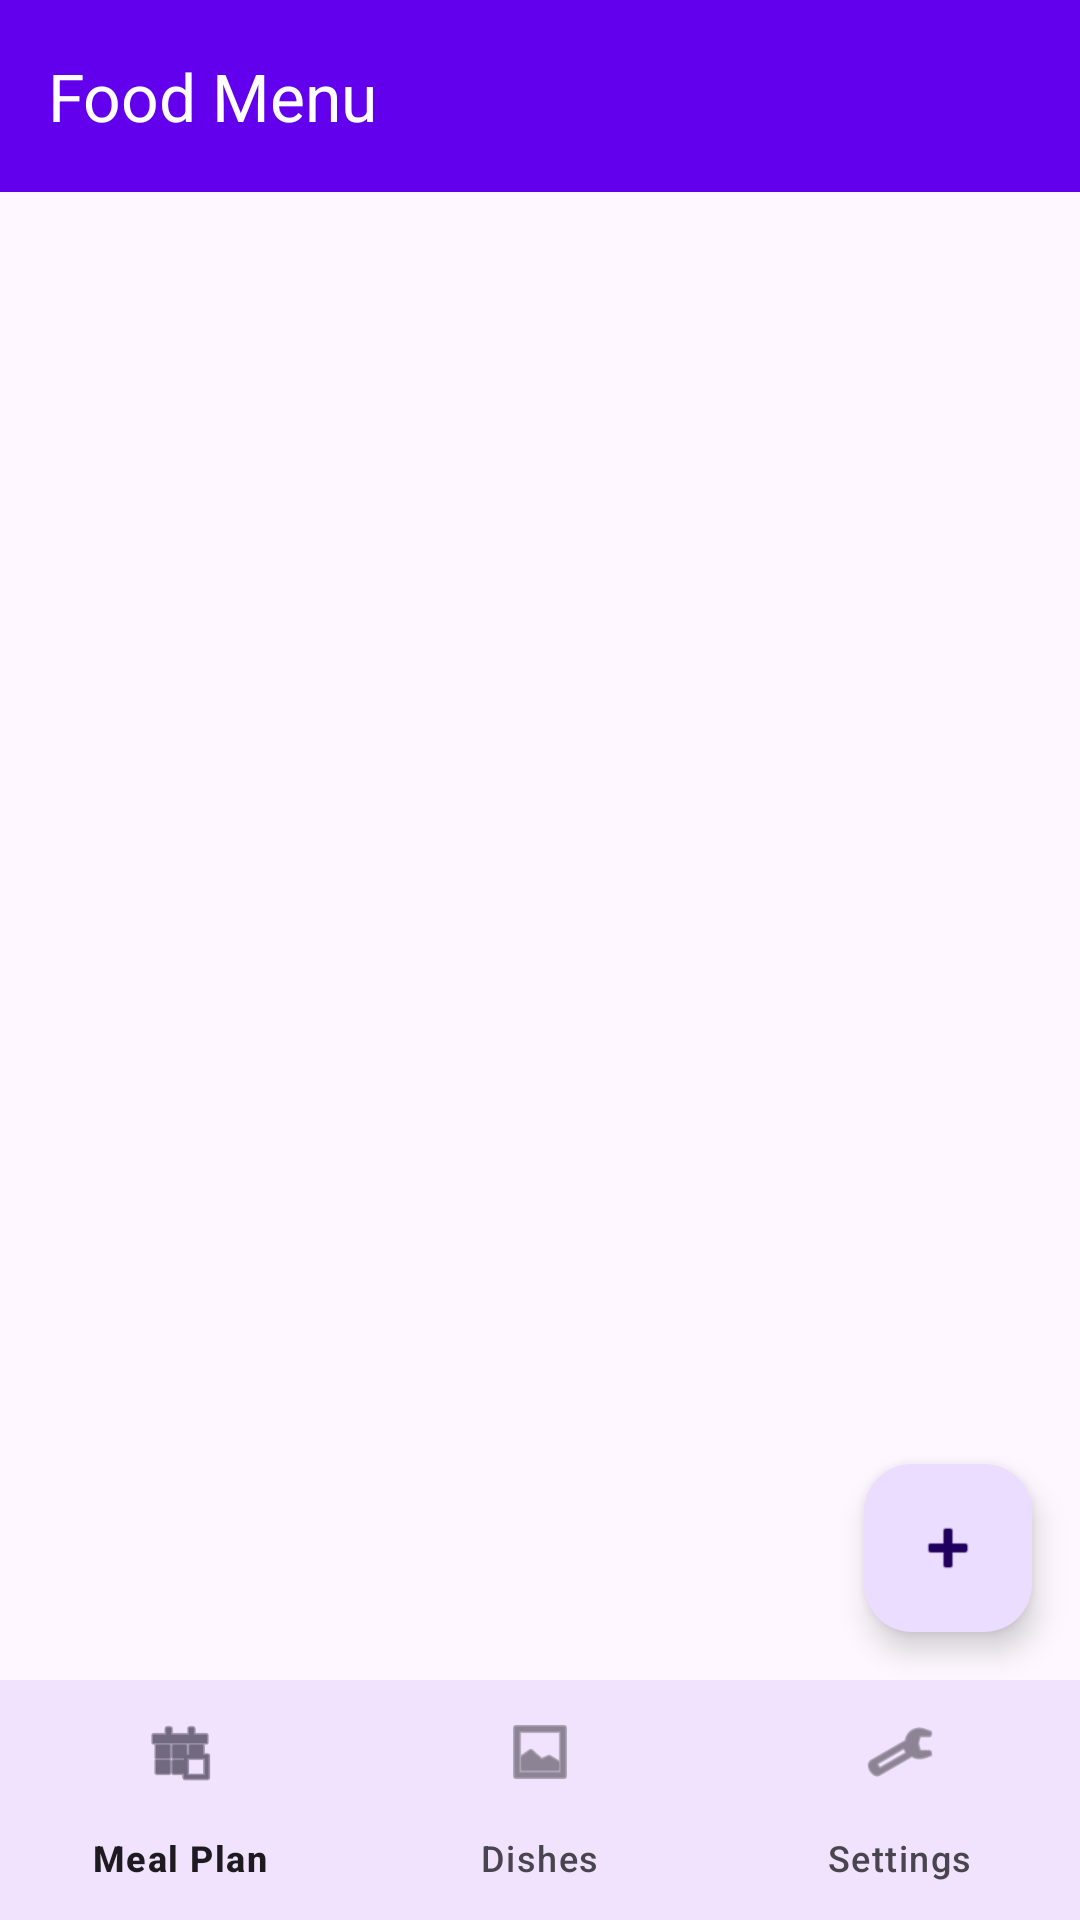

Locate icon controls on the screen. Image size 1080w x 1920h, boxes as (x1, y1, x2, y2).
Add Dish: (864, 1464, 1032, 1632)
